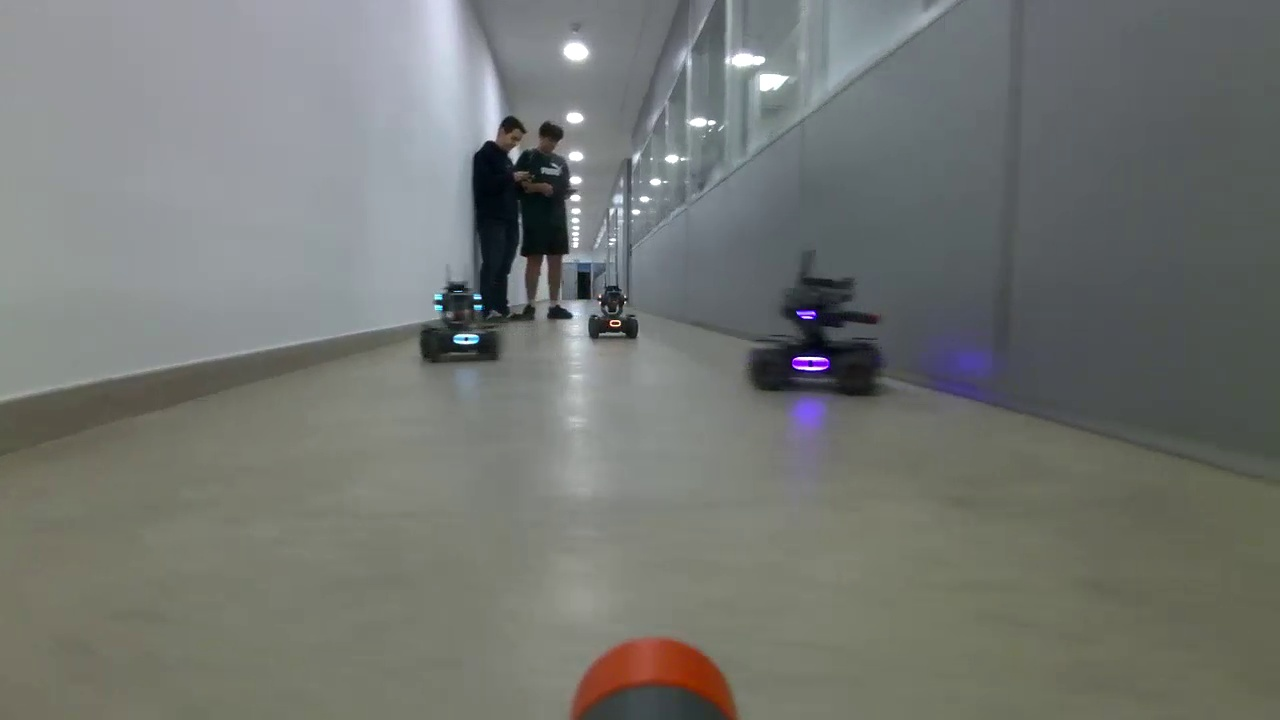robot: (748, 275, 887, 397), (422, 283, 500, 364), (588, 284, 641, 340)
